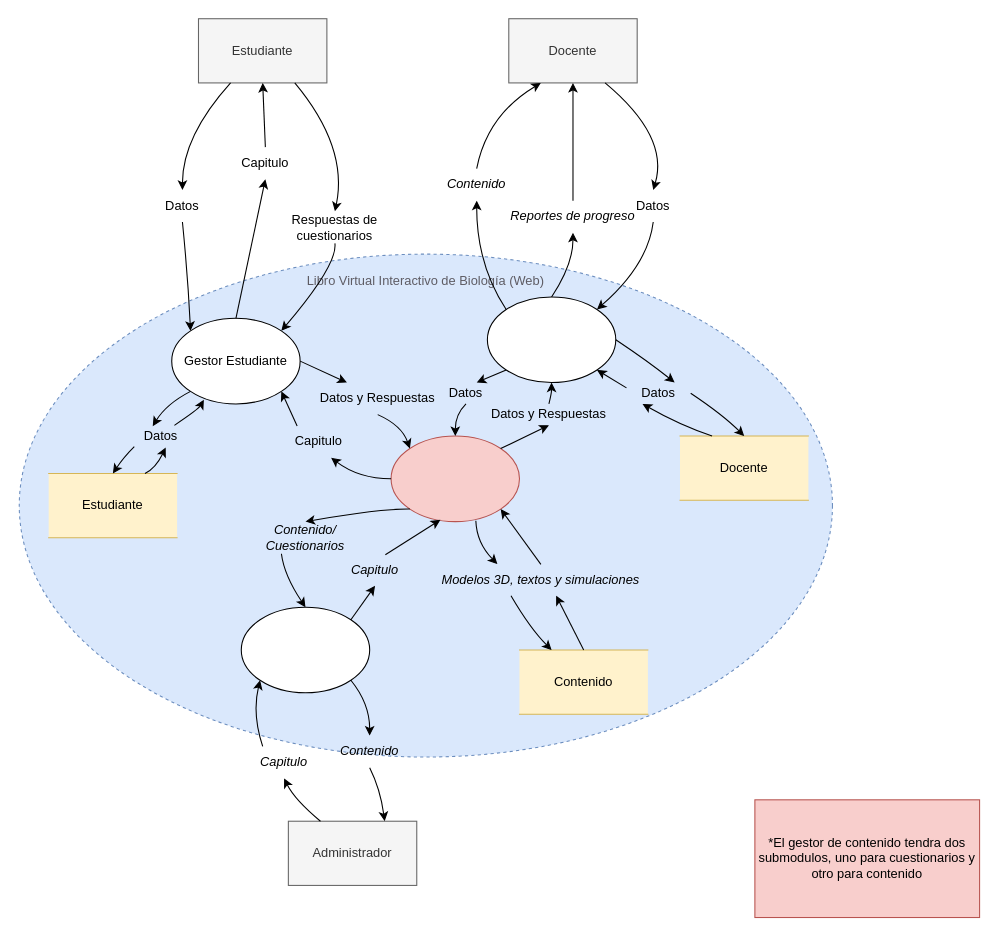
The diagram is 998 pixels wide and 936 high, and some of its shapes have lost their labels. Here are the shapes that lost their labels. From the top down, the box of each, then its label:
(486, 296, 616, 383): Gestor Docente
(390, 435, 519, 522): Gestor de Contenido*
(240, 606, 370, 693): Gestor Capítulo
